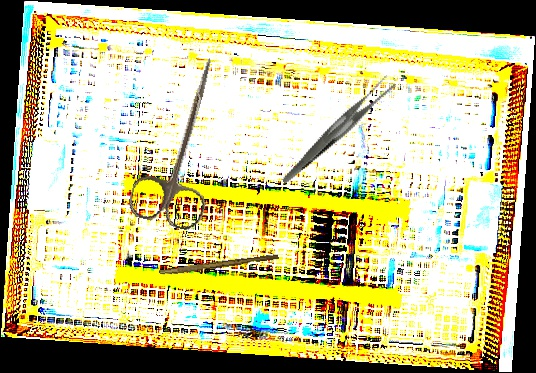Dressing Forceps: (261, 73, 414, 184)
Iris Scissors: (125, 47, 243, 234)
Scalpel Handle: (159, 251, 279, 279)
